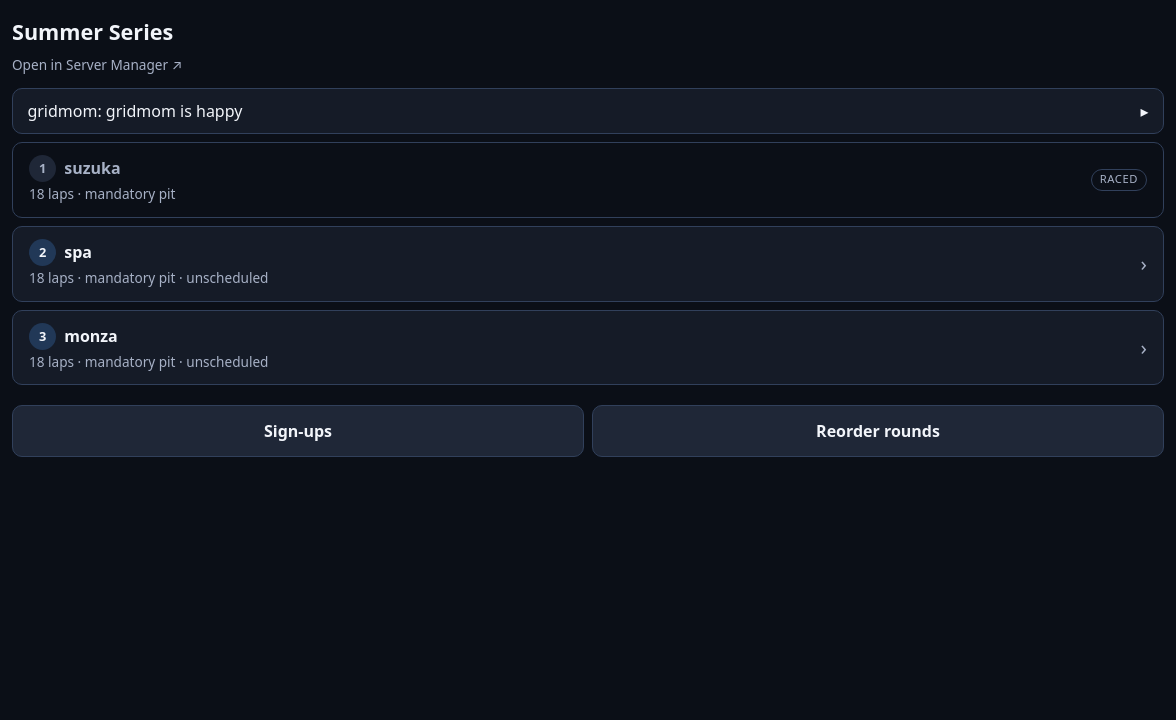
Test: reordering the rounds › will not offer to move a round that has been raced
Expected: the heading "Summer Series" is shown, x1=12 y1=17 x2=173 y2=46
Click the button "Reorder rounds": (878, 431) x1=592 y1=406 x2=1164 y2=457
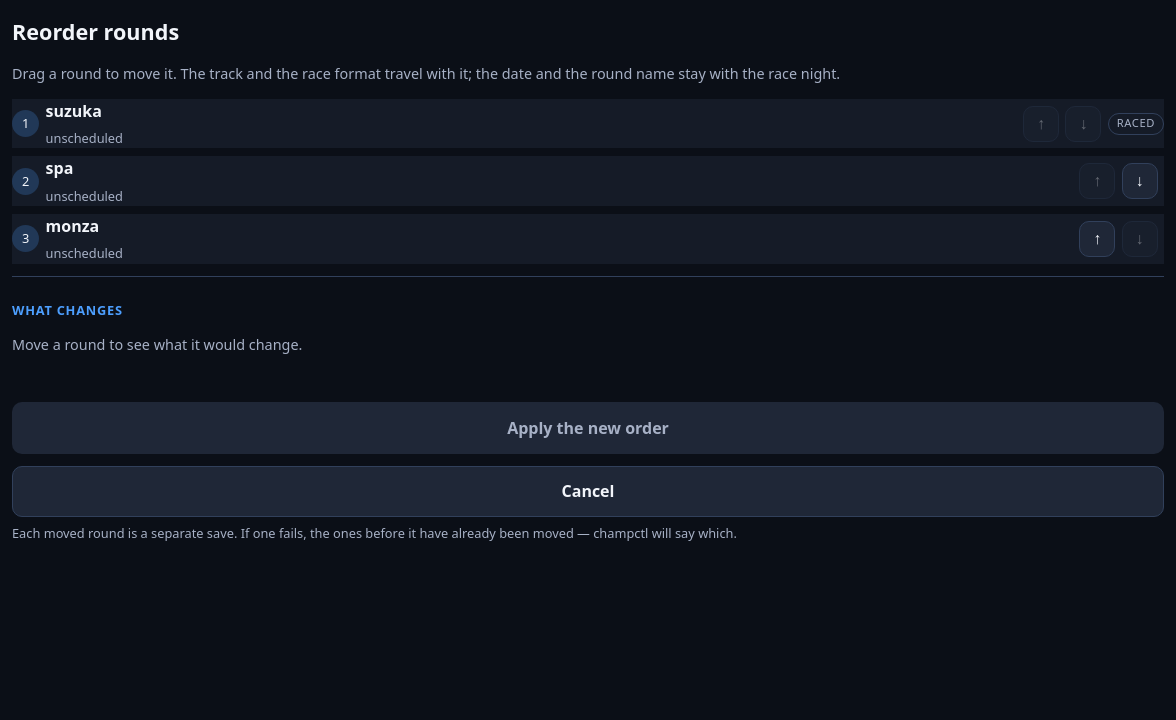
Expected: the number of elements with class "round-grip" is 2, x1=12 y1=168 x2=39 y2=195; x1=12 y1=225 x2=39 y2=252
Now the heading "Reorder rounds" is shown, box x1=12 y1=17 x2=179 y2=46
Now the button named "Move round 1 down" is disabled, box x1=1066 y1=106 x2=1102 y2=142
